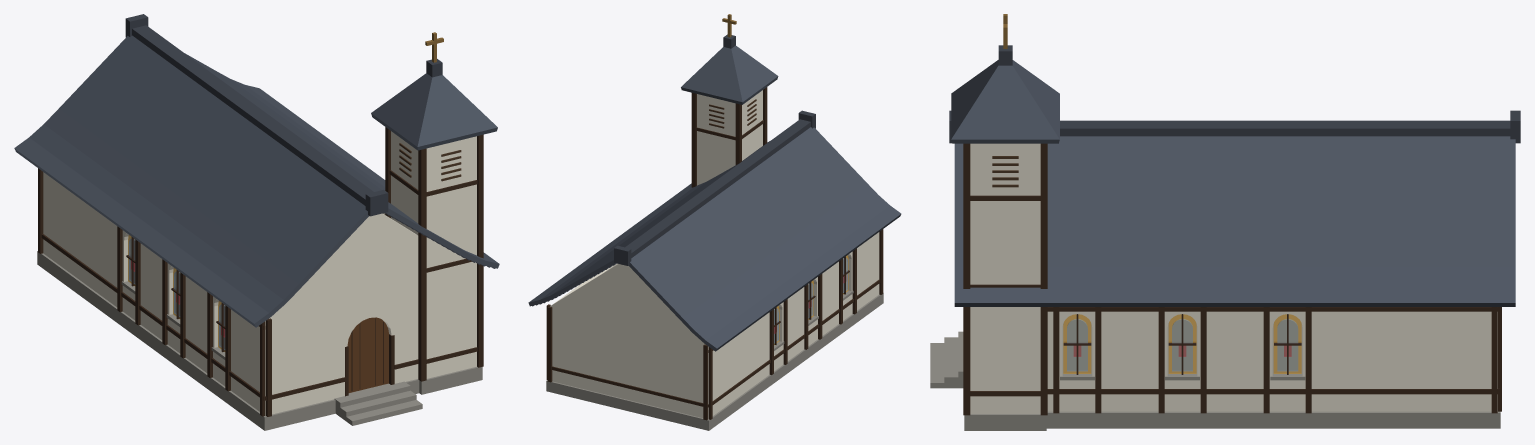
The model's file is church_shell.fbx.
3 views of the same model, side by side, from view 1: azimuth 30°, elevation 25°; view 2: azimuth 150°, elevation 25°; view 3: azimuth 270°, elevation 25° (orthographic). The views are drawn at different scales.
Parts seen in each view (by area): view 1: Church_Roof, Church_Plaster, Church_Timber, Church_Stone, Church_Ridge, Church_Door_L, Church_Door_R, Church_Glass_Blue, Church_Glass_Gold, Church_Louvre; view 2: Church_Roof, Church_Plaster, Church_Timber, Church_Stone, Church_Ridge, Church_Glass_Blue, Church_Glass_Gold; view 3: Church_Roof, Church_Plaster, Church_Timber, Church_Stone, Church_Ridge, Church_Glass_Gold, Church_Glass_Blue.
Part boxes in pixels (x1,y1,x2,y2): Church_Roof: (14,35,499,327); Church_Plaster: (43,131,476,415); Church_Timber: (38,127,483,416); Church_Stone: (37,251,482,430); Church_Ridge: (125,14,495,280); Church_Door_L: (367,317,388,388); Church_Door_R: (347,319,367,392); Church_Glass_Blue: (129,238,225,349); Church_Glass_Gold: (128,235,225,351); Church_Louvre: (399,143,461,181); Church_Roof: (528,45,901,351); Church_Plaster: (550,90,879,419); Church_Timber: (546,87,883,420); Church_Stone: (546,290,883,430); Church_Ridge: (532,34,815,306); Church_Glass_Blue: (774,258,847,343); Church_Glass_Gold: (774,255,848,344); Church_Roof: (951,60,1515,306); Church_Plaster: (970,143,1497,413); Church_Timber: (963,143,1501,415); Church_Stone: (930,315,1500,430); Church_Ridge: (949,45,1520,143); Church_Glass_Gold: (1063,314,1301,373); Church_Glass_Blue: (1067,319,1298,371).
Size of the model in its own units: 37.79 by 50.2 by 67.4.
